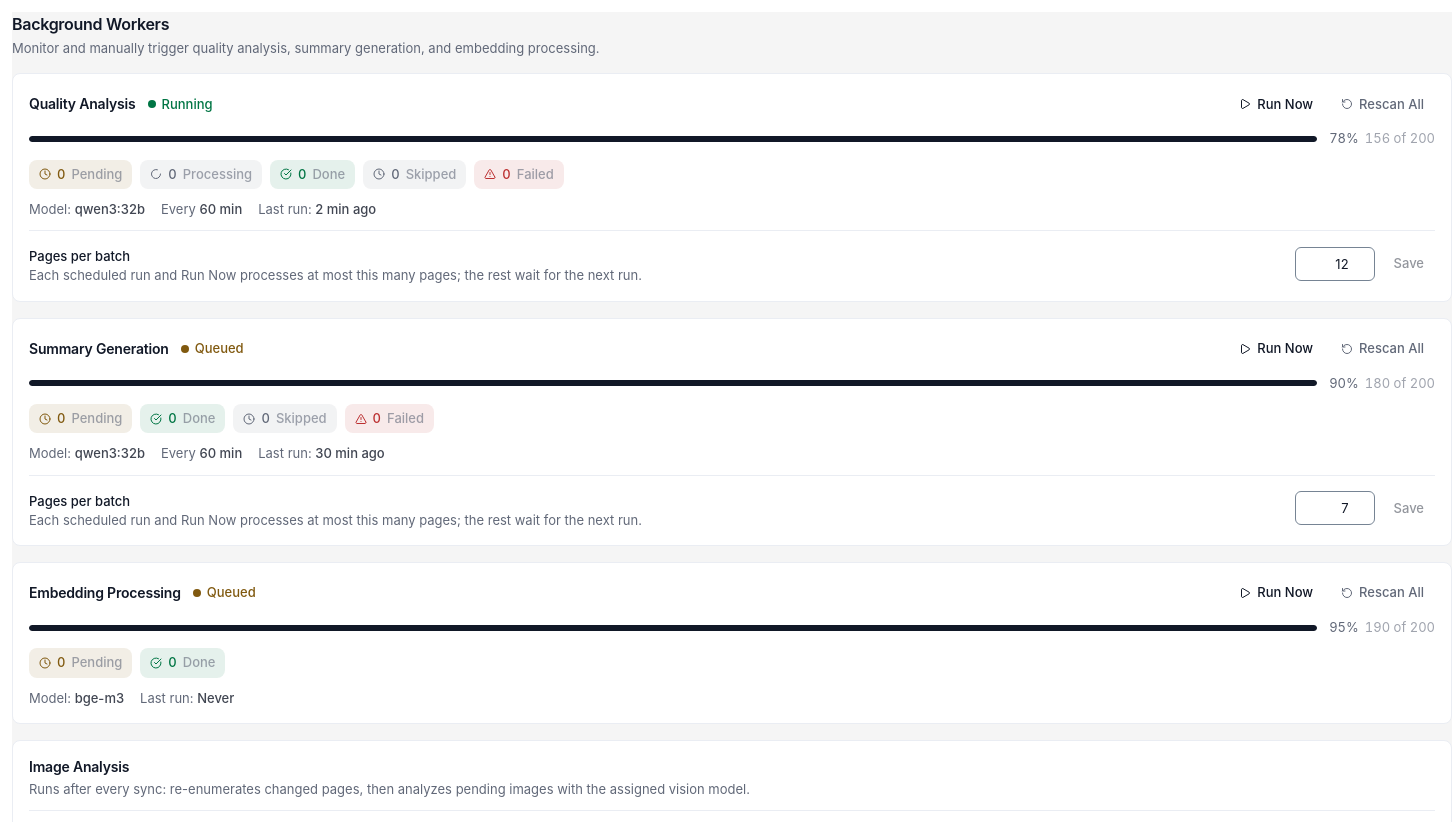
Test: WorkersTab › pages per batch › keeps cached values and drafts visible after a failed background read
Replace the text in the number field with test id "quality-batch-size" with "30" at {"x": 1335, "y": 264}, box top-left (1295, 247), bottom-right (1375, 281)
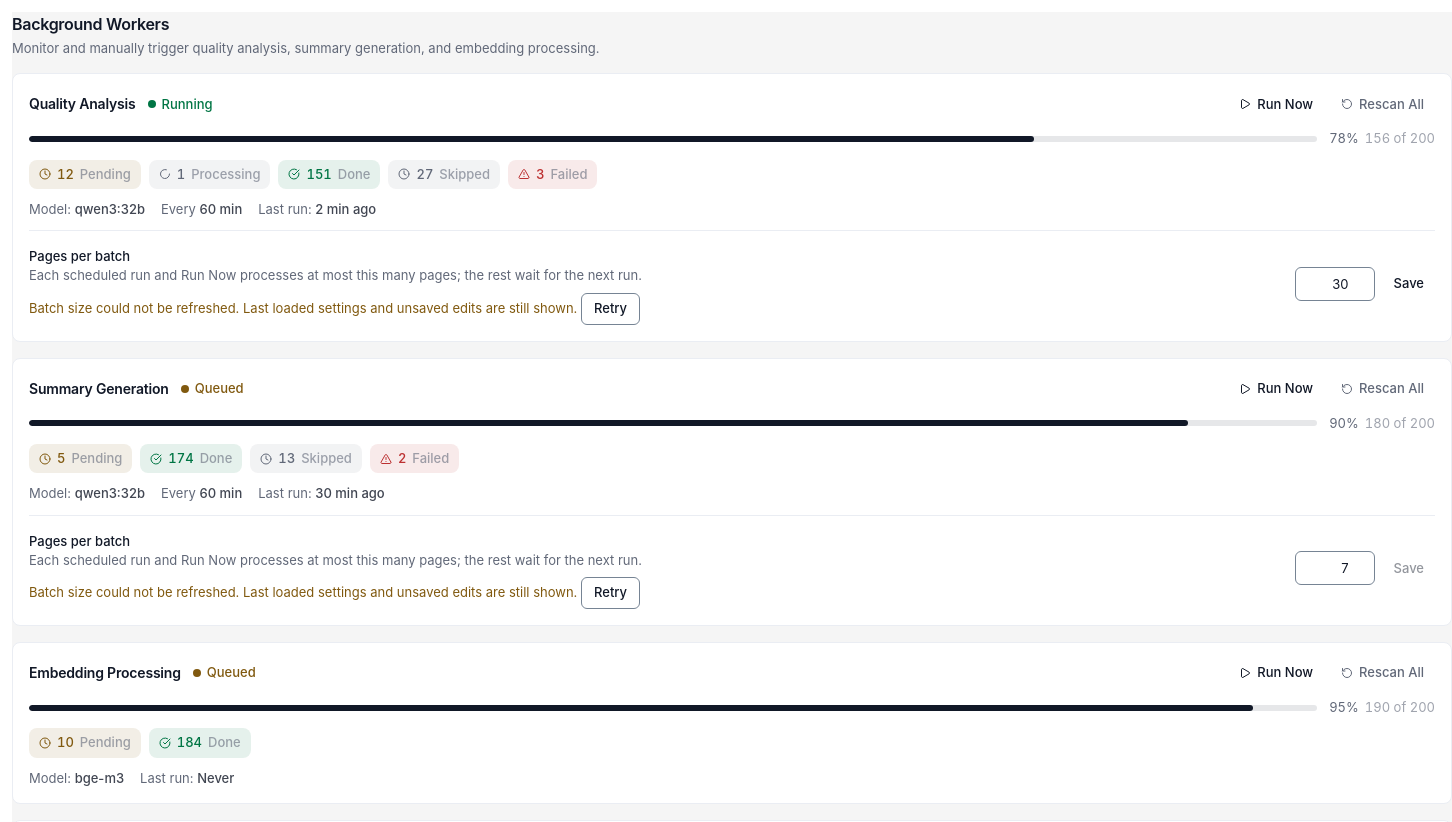
Expected: the number field with test id "summary-batch-size" holds "7", top-left (1295, 551), bottom-right (1375, 585)
Expected: the message below "2 min ago" shows "Last loaded", top-left (29, 300), bottom-right (577, 316)
Expected: the button "Retry" below "30 min ago" is enabled, top-left (581, 577), bottom-right (640, 609)
